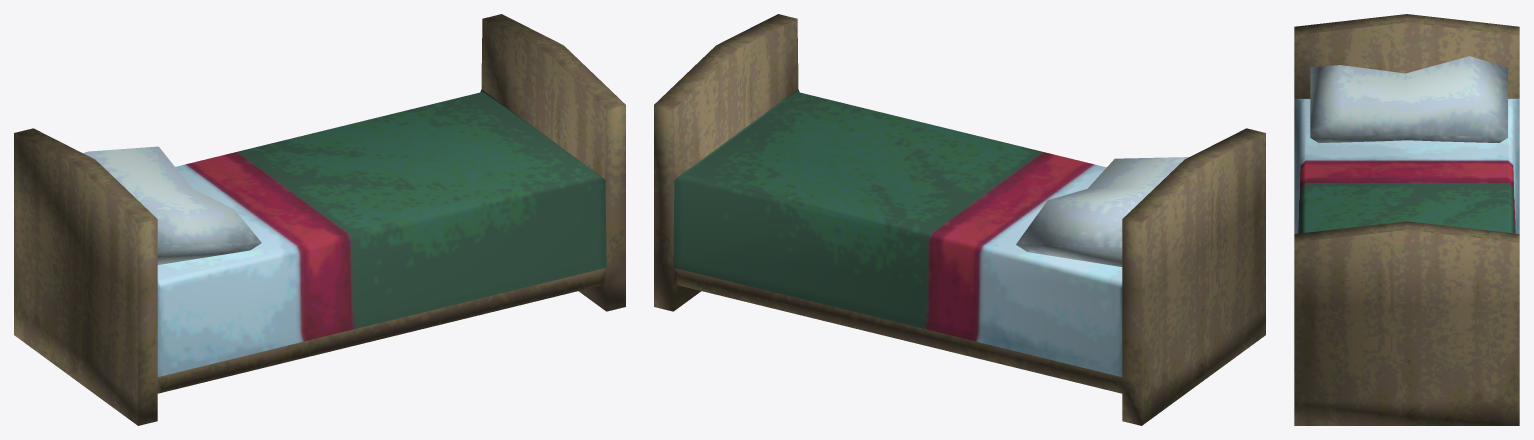
Rendered from bed.dae.
3 views of the same model, side by side, from view 1: azimuth 30°, elevation 25°; view 2: azimuth 150°, elevation 25°; view 3: azimuth 270°, elevation 25° (orthographic). The views are drawn at different scales.
Visible parts, largest first — view 1: Bed; view 2: Bed; view 3: Bed.
Part boxes in pixels (x1,y1,x2,y2): Bed: (14,14,625,425); Bed: (654,14,1265,425); Bed: (1294,14,1519,425).
Bounding box in the file's own units: 2.29 × 1.01 × 0.9677.
1 material, 1 textured.
